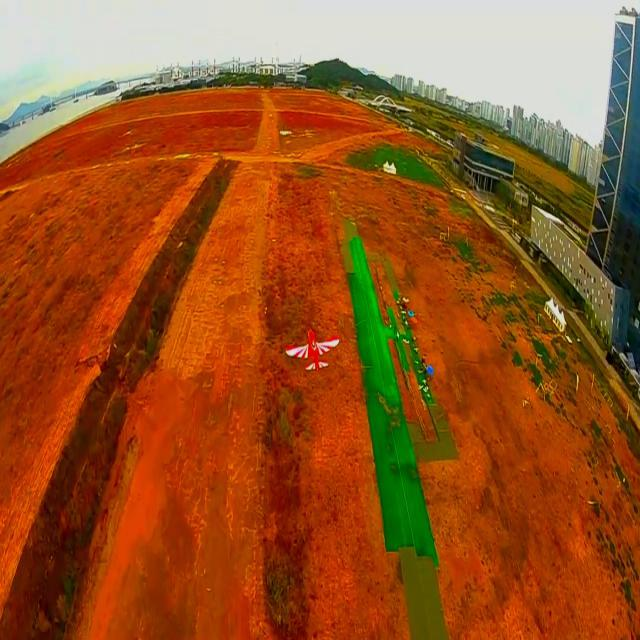iha: (285, 328, 338, 370)
